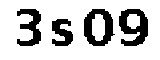0: (81, 4, 116, 49)
3: (11, 7, 46, 50)
9: (117, 5, 150, 49)
s: (47, 15, 78, 48)
